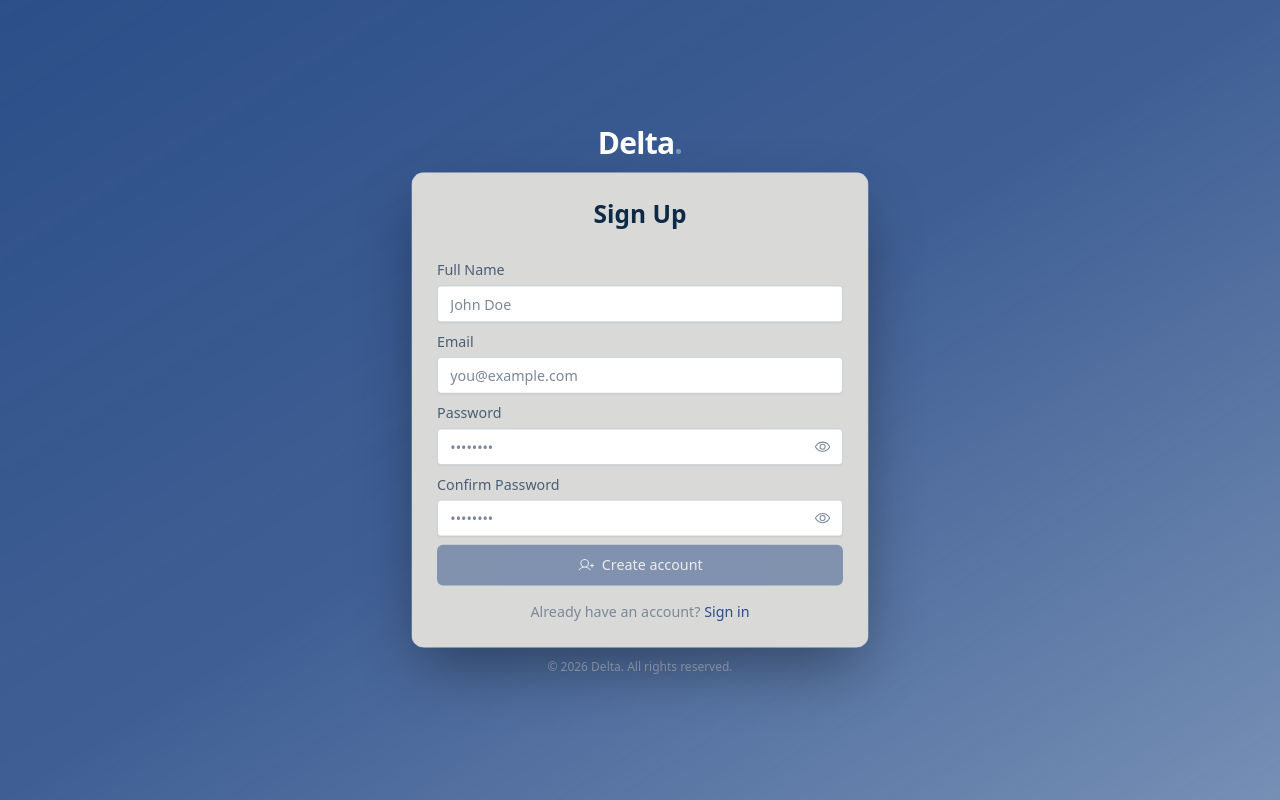
Signup Page › shows error when passwords do not match
The width and height of the screenshot is (1280, 800).
Step 1. Type "password123" into the password field labelled "Password" → (640, 447), box [437, 428, 843, 465]
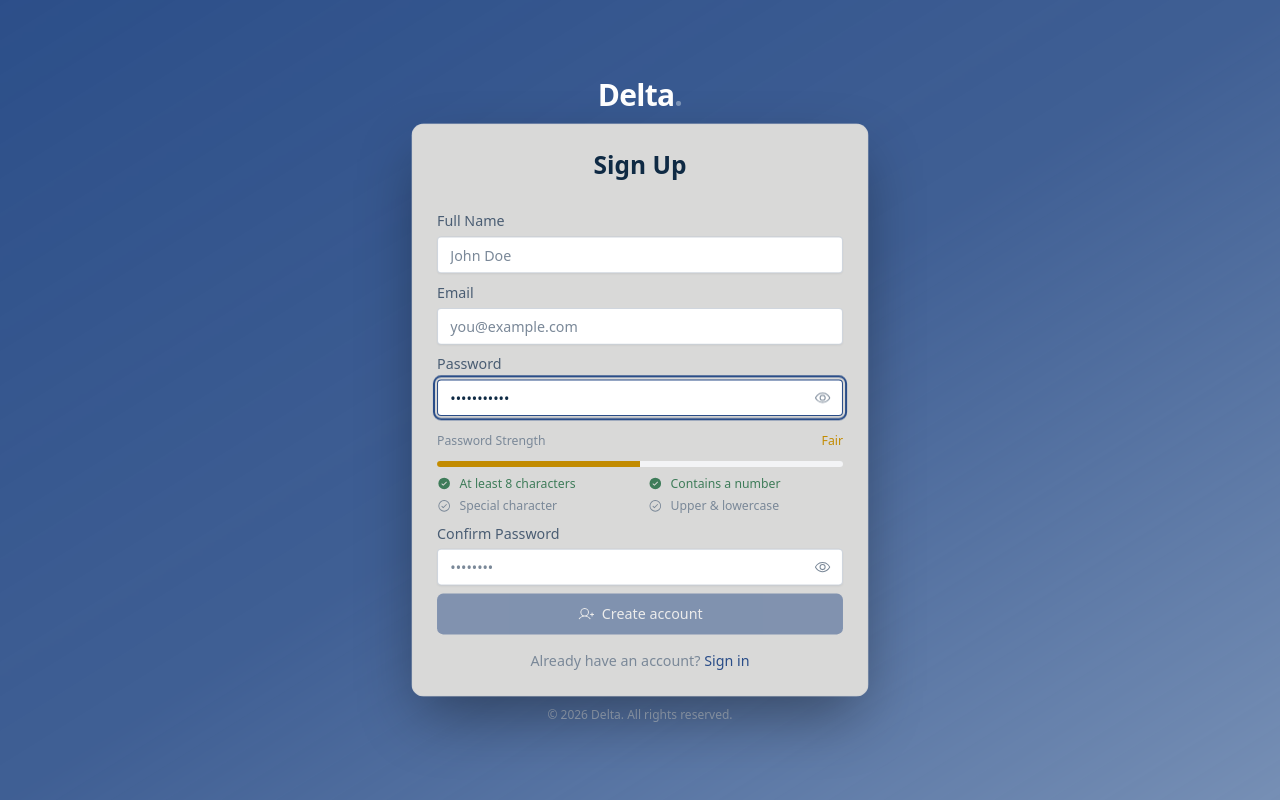
Step 2. Type "different" into the password field labelled "Confirm Password" → (640, 567), box [437, 549, 843, 585]
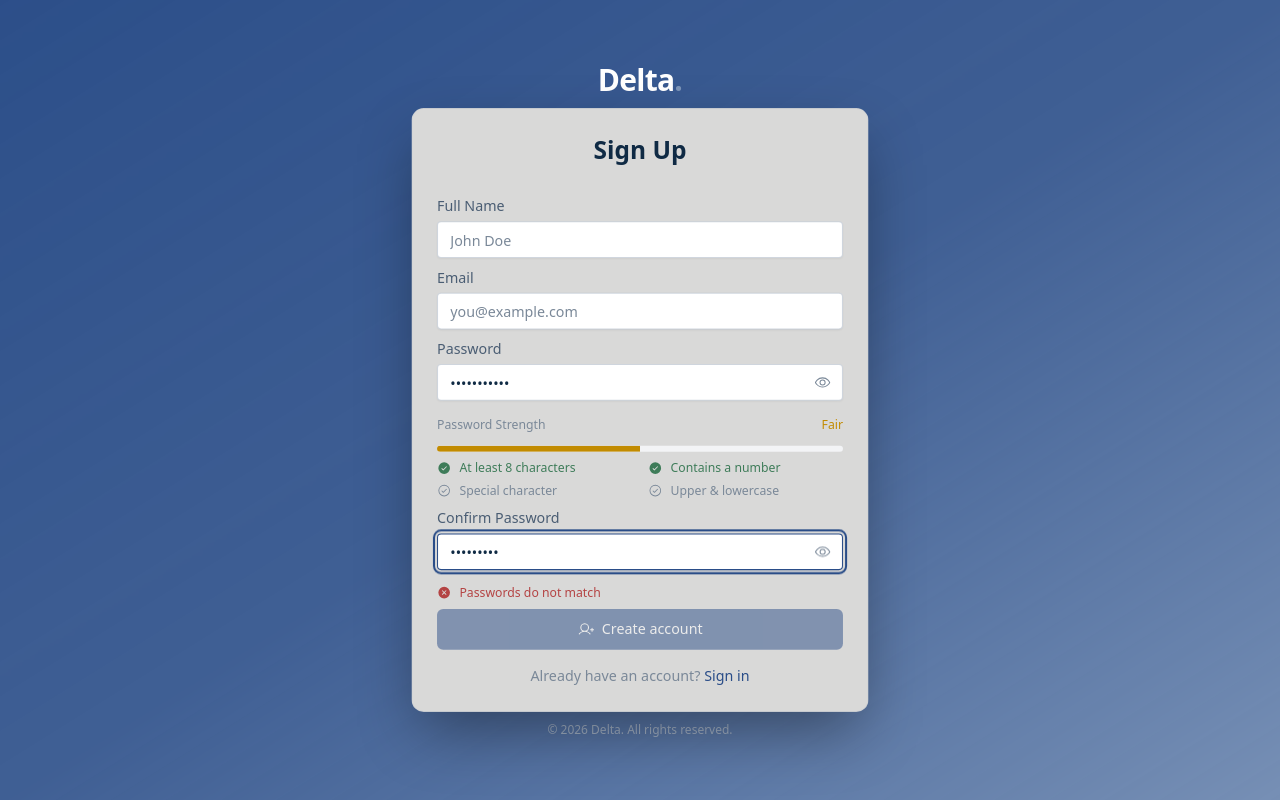
Result: the text "Passwords do not match" is shown at [460, 584, 601, 601]
